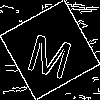M: (25, 25, 77, 80)
